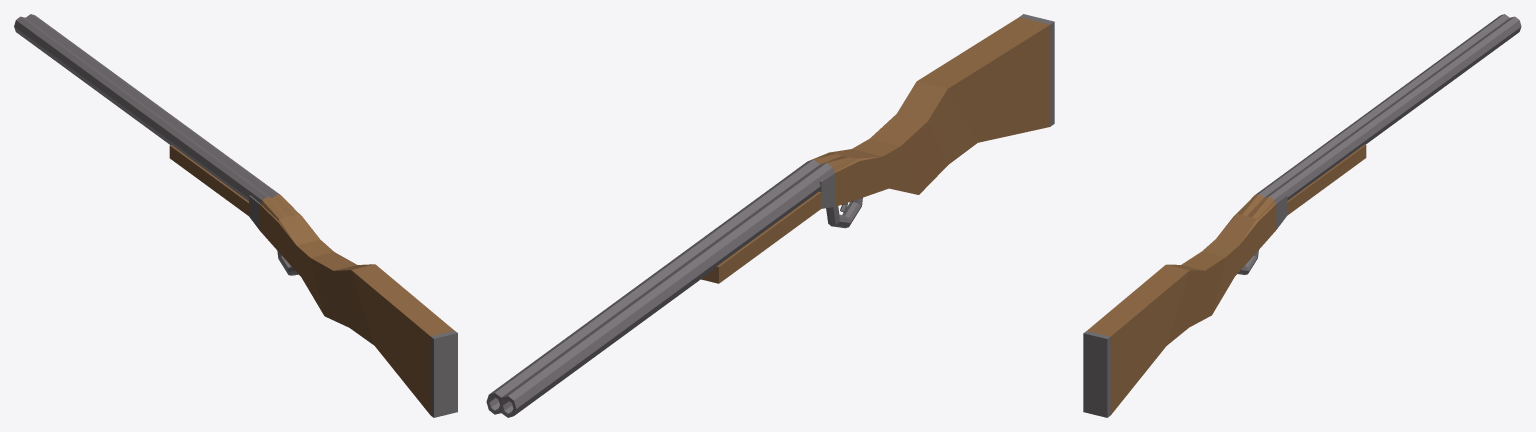
Rendered from arma001.fbx.
3 renders of one model, left to right at view 1: azimuth 30°, elevation 25°; view 2: azimuth 150°, elevation 25°; view 3: azimuth 330°, elevation 25°, orthographic. The views are drawn at different scales.
Visible parts, largest first — view 1: Apoio, Cano; view 2: Apoio, Cano, Gatilho; view 3: Apoio, Cano.
Boxes of the visible parts, box(x1,y1,x2,y2) form: Apoio: box(169, 145, 457, 417); Cano: box(14, 14, 280, 204); Apoio: box(701, 14, 1054, 283); Cano: box(486, 159, 834, 417); Gatilho: box(826, 197, 862, 228); Apoio: box(1083, 144, 1366, 417); Cano: box(1255, 14, 1521, 203).
Size of the model in its own units: 40.14 by 137 by 1103.
